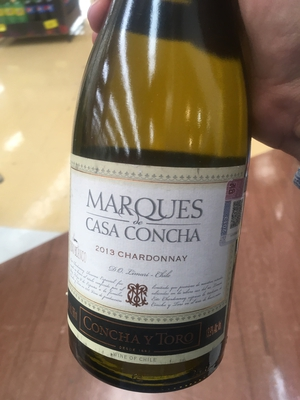marques de casa concha chardonnay: (68, 16, 274, 400)
